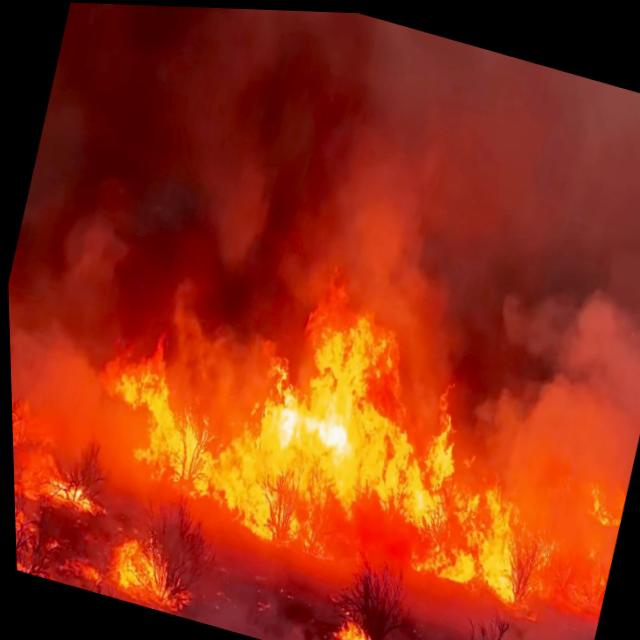fire: (109, 262, 497, 564)
smoke: (31, 1, 368, 235), (424, 47, 640, 410)
